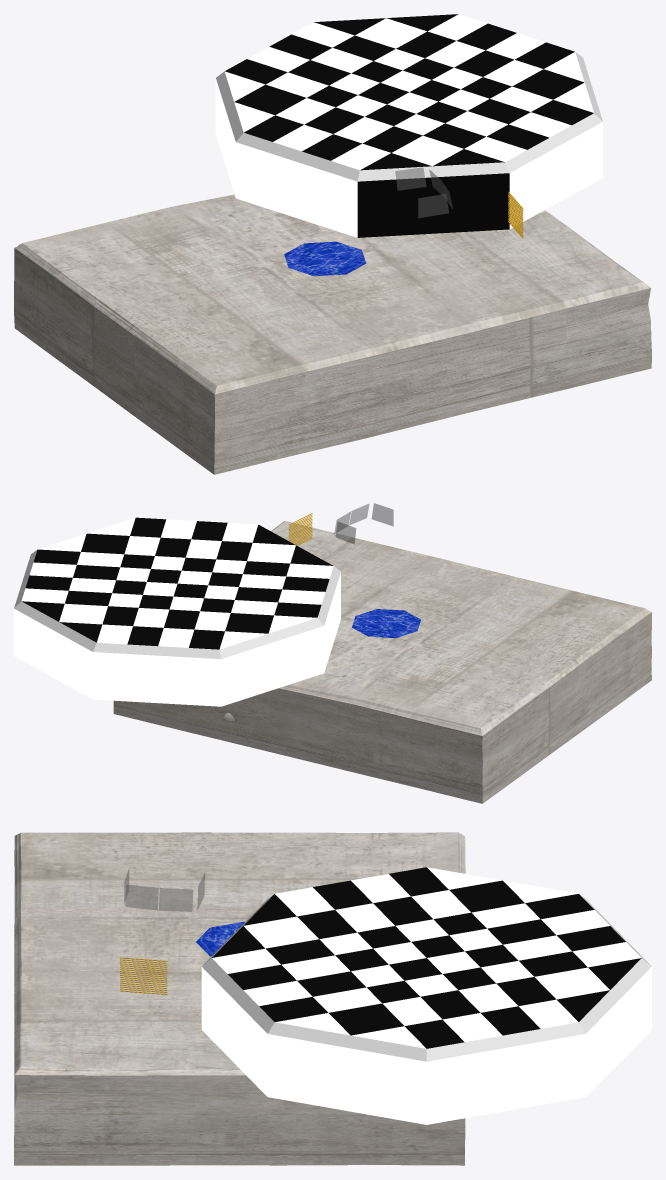
File: FontAeneUdenVand.glb
The picture shows the model from 3 angles, top to bottom: view 1: azimuth 30°, elevation 25°; view 2: azimuth 150°, elevation 25°; view 3: azimuth 270°, elevation 25°; orthographic projection. The views are drawn at different scales.
Visible parts, largest first — view 1: BetonOe, DanseGulv, 01_Fontaene.001, 03_LSMcTr_Vinduer; view 2: BetonOe, DanseGulv, 01_Fontaene.001, 03_LSMcTr_Vinduer, Grill.001; view 3: BetonOe, DanseGulv, 03_LSMcTr_Vinduer, Grill.001, 01_Fontaene.001.
Boxes of the visible parts, left/top/right/bottom form: BetonOe: left=14, top=194, right=651, bottom=474; DanseGulv: left=215, top=14, right=602, bottom=237; 01_Fontaene.001: left=284, top=241, right=365, bottom=276; 03_LSMcTr_Vinduer: left=395, top=167, right=452, bottom=218; BetonOe: left=113, top=521, right=651, bottom=803; DanseGulv: left=14, top=517, right=340, bottom=706; 01_Fontaene.001: left=352, top=609, right=420, bottom=638; 03_LSMcTr_Vinduer: left=334, top=503, right=393, bottom=544; Grill.001: left=288, top=513, right=312, bottom=545; BetonOe: left=14, top=832, right=465, bottom=1165; DanseGulv: left=201, top=867, right=651, bottom=1124; 03_LSMcTr_Vinduer: left=124, top=868, right=204, bottom=911; Grill.001: left=120, top=957, right=167, bottom=994; 01_Fontaene.001: left=196, top=921, right=244, bottom=956.
Size of the model in its own units: 3.18 by 0.977 by 2.83.
Materials: 30 (7 with a texture image).
